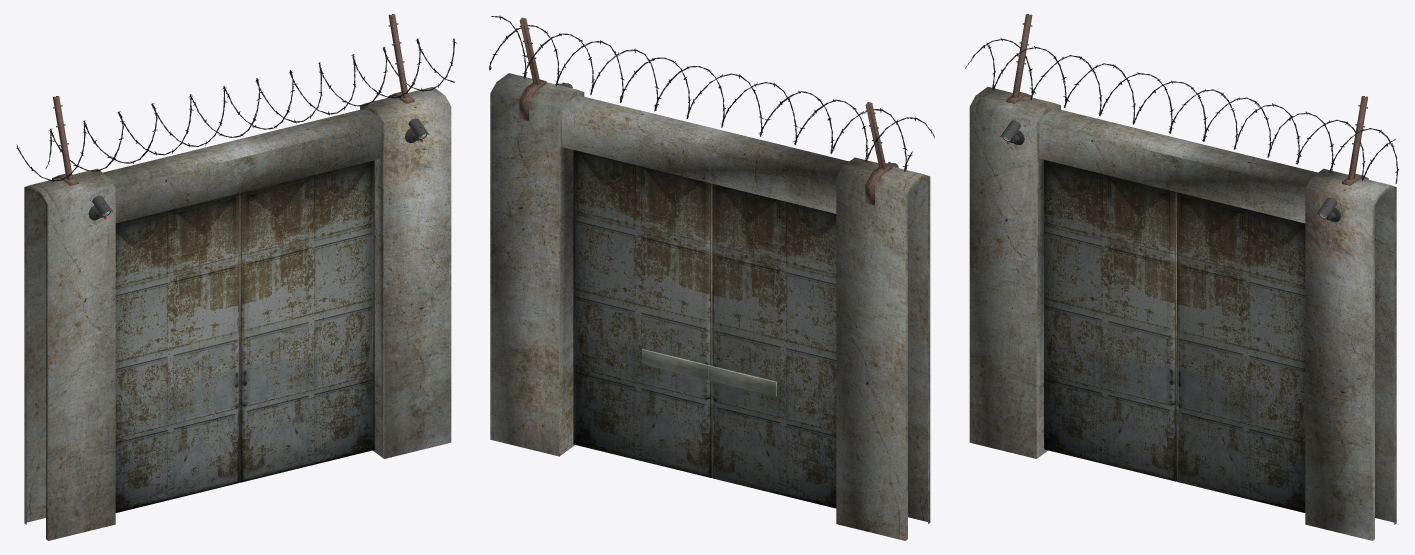
The model's file is PrisonDoor.fbx.
3 renders of one model, left to right at view 1: azimuth 30°, elevation 25°; view 2: azimuth 150°, elevation 25°; view 3: azimuth 330°, elevation 25°, orthographic. The views are drawn at different scales.
Parts seen in each view (by area): view 1: OutsideWall.004, MainGate2.002, MainGate1.002; view 2: OutsideWall.004, MainGate2.002, MainGate1.002; view 3: OutsideWall.004, MainGate1.002, MainGate2.002.
Boxes of the visible parts, x1,y1,x2,y2 form: OutsideWall.004: (16,14,456,540); MainGate2.002: (239,160,374,482); MainGate1.002: (115,193,239,512); OutsideWall.004: (489,15,934,540); MainGate2.002: (573,150,712,477); MainGate1.002: (709,184,836,508); OutsideWall.004: (965,14,1398,540); MainGate1.002: (1044,160,1176,481); MainGate2.002: (1177,192,1305,512).
Size of the model in its own units: 634 by 595 by 104.
